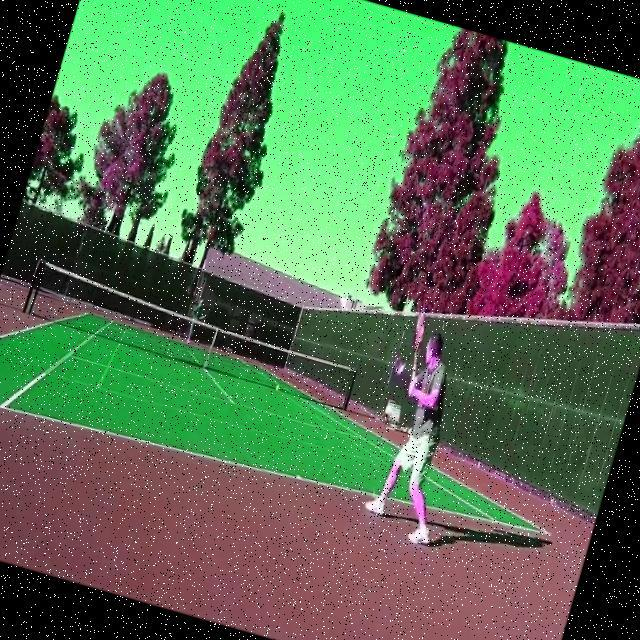court: (0, 287, 575, 565)
net: (17, 262, 364, 418)
player: (347, 306, 489, 548)
